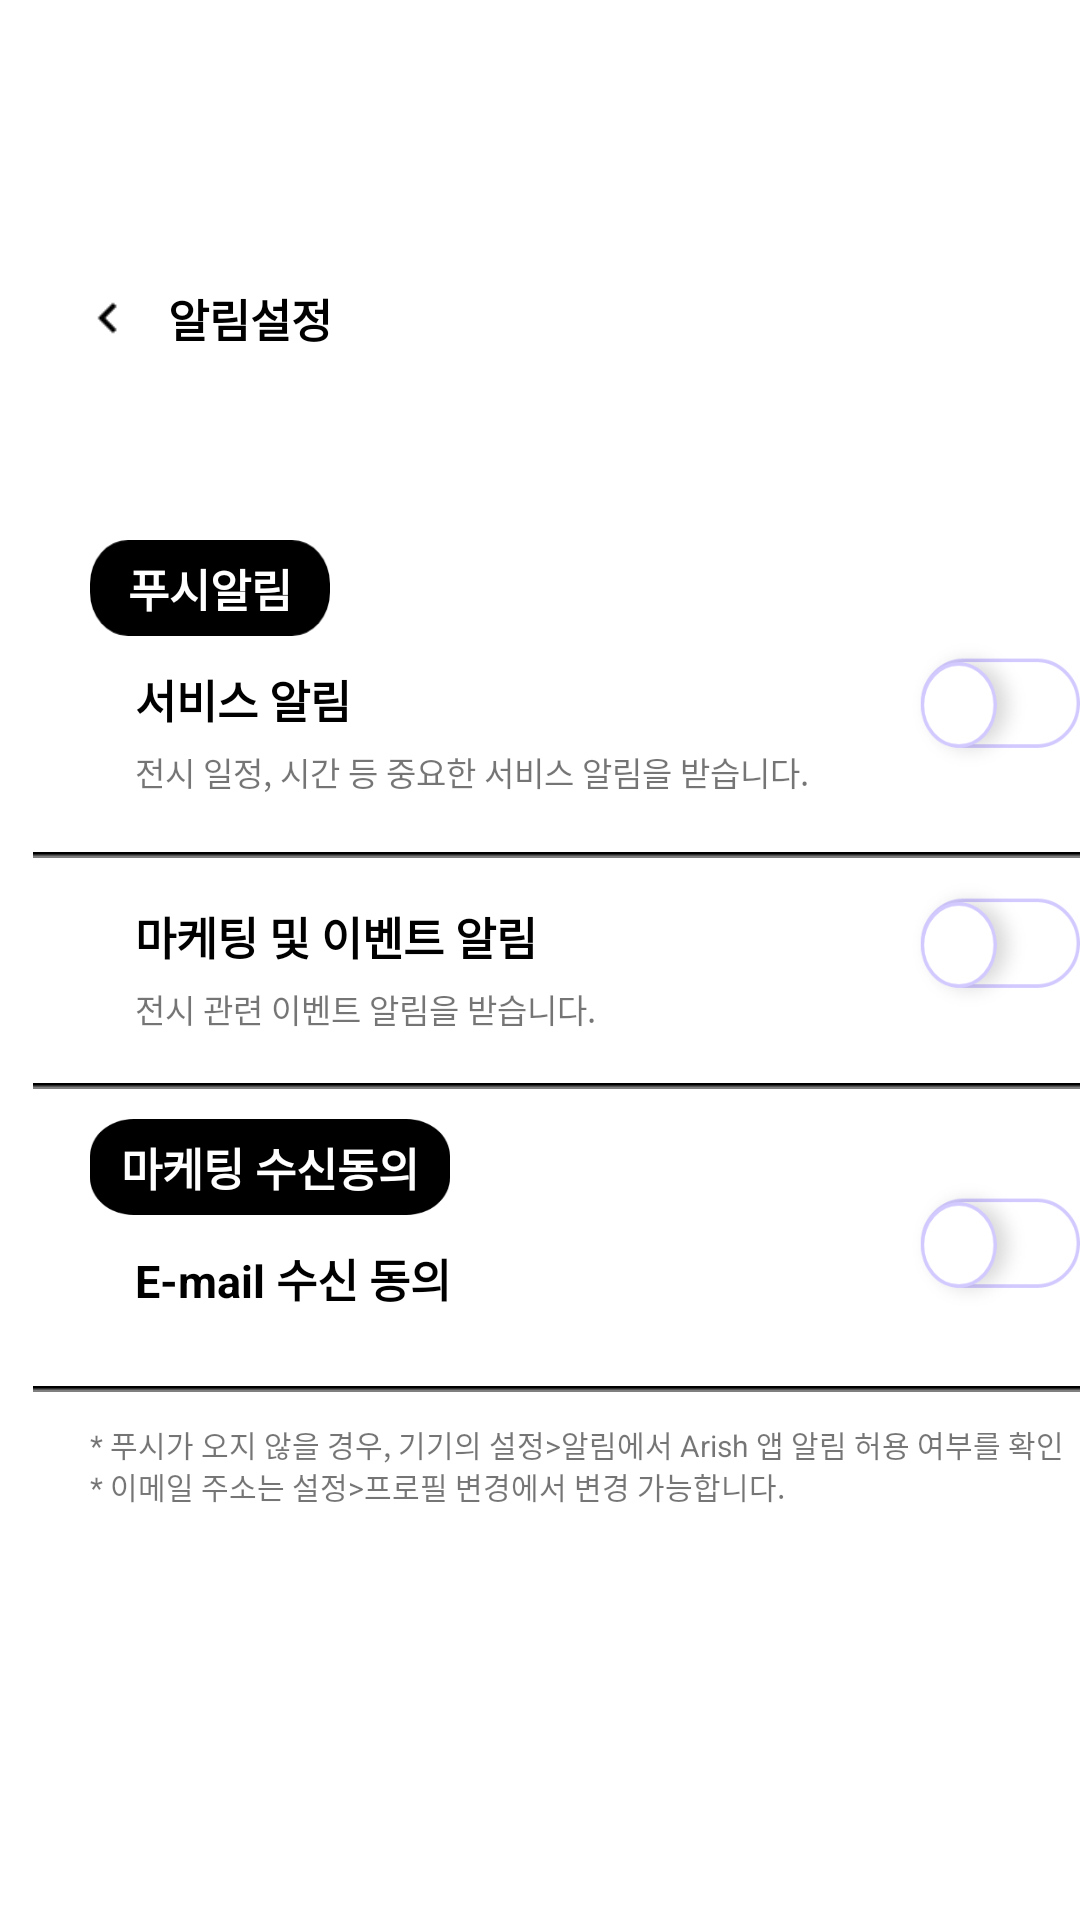

Icon click points for this 1080*1920 phone screenshot, format point (x, y):
iconblackleft: point (107, 318)
